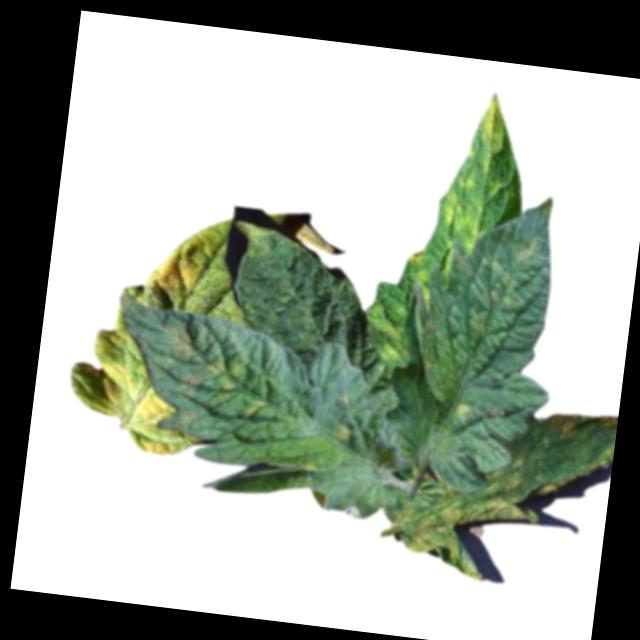Leaf_Mold: (379, 459, 562, 589), (61, 300, 198, 459), (141, 224, 222, 317), (200, 350, 281, 421), (435, 170, 488, 252), (475, 90, 519, 154), (332, 418, 356, 448), (455, 400, 474, 424)
